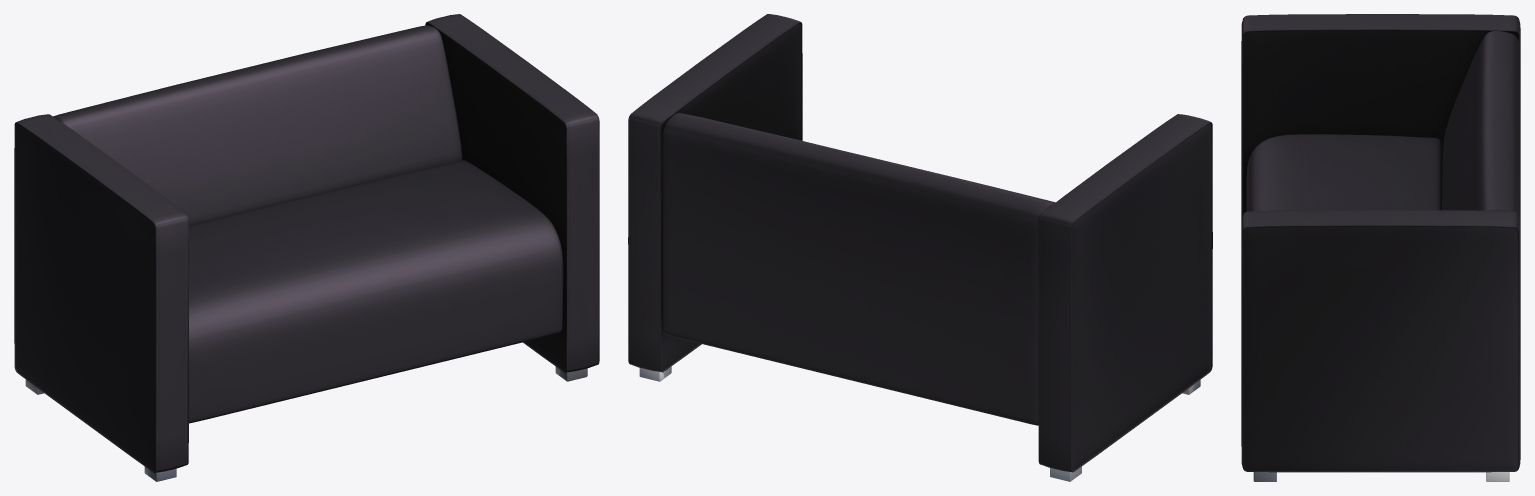
File: zuerich_ii.glb
3 views of the same model, side by side, from view 1: azimuth 30°, elevation 25°; view 2: azimuth 150°, elevation 25°; view 3: azimuth 270°, elevation 25° (orthographic). The views are drawn at different scales.
Visible parts, largest first — view 1: zuerich_ii-black; view 2: zuerich_ii-black; view 3: zuerich_ii-black.
Boxes of the visible parts, x1,y1,x2,y2 form: zuerich_ii-black: (14, 14, 599, 481); zuerich_ii-black: (628, 14, 1212, 481); zuerich_ii-black: (1241, 14, 1520, 481).
Size of the model in its own units: 1.24 by 0.71 by 0.6895.
Materials: 1 (1 with a texture image).
